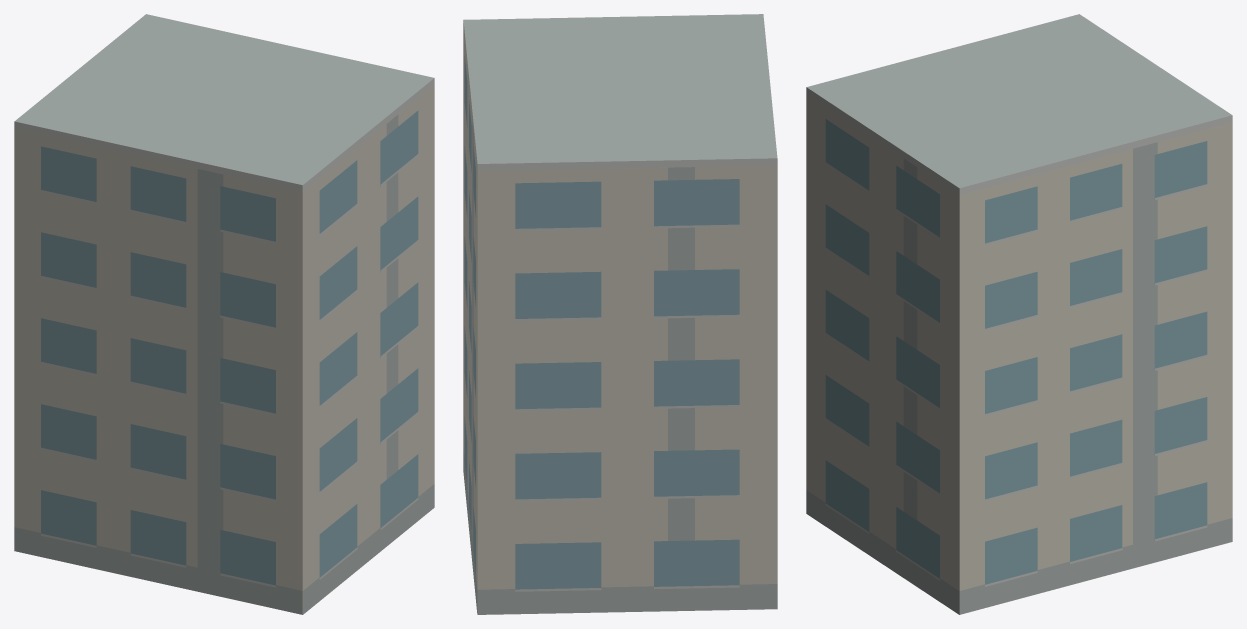
Rendered from residential-cfeec1c5-0b0e-48c1-9905-42638246a769.glb.
The picture shows the model from 3 angles, left to right: view 1: azimuth 30°, elevation 25°; view 2: azimuth 150°, elevation 25°; view 3: azimuth 270°, elevation 25°; orthographic projection. The views are drawn at different scales.
Visible parts, largest first — view 1: residential-cfeec1c5-0b0e-48c1-9905-42638246a769.tmp; view 2: residential-cfeec1c5-0b0e-48c1-9905-42638246a769.tmp; view 3: residential-cfeec1c5-0b0e-48c1-9905-42638246a769.tmp.
Boxes of the visible parts, x1,y1,x2,y2 form: residential-cfeec1c5-0b0e-48c1-9905-42638246a769.tmp: (14, 14, 434, 614); residential-cfeec1c5-0b0e-48c1-9905-42638246a769.tmp: (463, 14, 777, 614); residential-cfeec1c5-0b0e-48c1-9905-42638246a769.tmp: (806, 14, 1232, 614).
Size of the model in its own units: 13.33 by 15.2 by 13.77.
